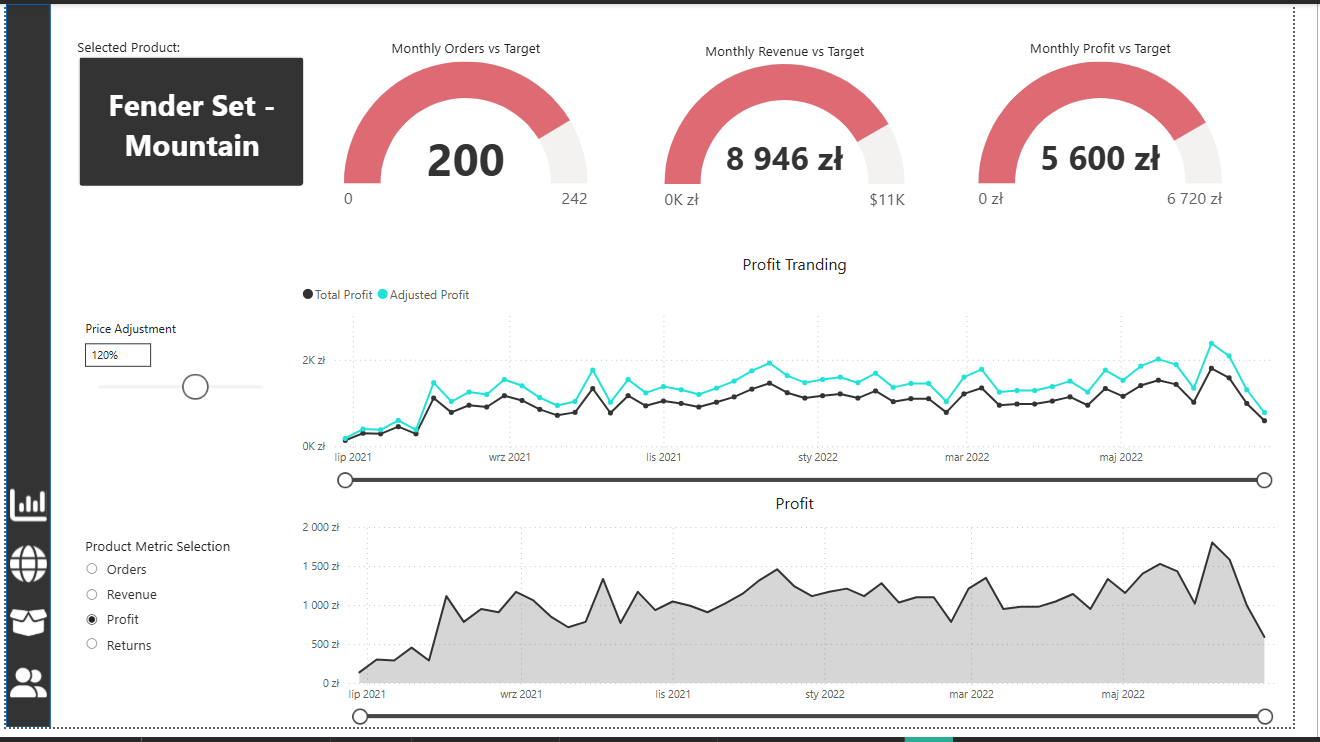

This screenshot's page, from the dashboard's own definition file:
{"tool":"powerbi","page":{"name":"Product Detail","canvas":[1280,720],"ordinal":2},"visuals":[{"type":"shape","box":[0,0,44.4,720],"z":0},{"type":"gauge","title":"Monthly Orders vs Target","fields":{"MaxValue":["Measure Table DAX.Order Target"],"Y":["Measure Table DAX.Ilość Zamówień"]},"box":[327.4,35.4,261.2,180.5],"z":1000},{"type":"gauge","title":"Monthly Revenue vs Target","fields":{"MaxValue":["Measure Table DAX.Target Revenue"],"Y":["Measure Table DAX.Total Revenue"]},"box":[643.8,37.2,261.2,178.6],"z":2000},{"type":"gauge","title":"Monthly Profit vs Target","fields":{"MaxValue":["Measure Table DAX.Profit Target"],"Y":["Measure Table DAX.Total Profit"]},"box":[959.4,35.4,260.3,180.5],"z":3000},{"type":"lineChart","title":"Profit Tranding","fields":{"Category":["Calendar Lookup.Date Hierarchy.Początek roku","Calendar Lookup.Date Hierarchy.Początek miesiąca","Calendar Lookup.Date Hierarchy.Początek tygodnia","Calendar Lookup.Date Hierarchy.Date"],"Y":["Measure Table DAX.Total Profit","Measure Table DAX.Adjusted Profit"]},"box":[290.3,247.9,989.7,236.9],"z":4000},{"type":"areaChart","fields":{"Category":["Calendar Lookup.Date Hierarchy.Początek roku","Calendar Lookup.Date Hierarchy.Początek miesiąca","Calendar Lookup.Date Hierarchy.Początek tygodnia","Calendar Lookup.Date Hierarchy.Date"],"Y":["Measure Table DAX.Ilość Zamówień"]},"box":[290.3,484.8,989.7,234.8],"z":5000},{"type":"cardVisual","fields":{"Data":["Min(Product Lookup.ProductName)"]},"box":[54.4,35.3,259,164.3],"z":6000},{"type":"textbox","box":[66,28,117,27.2],"z":7000},{"type":"actionButton","box":[0,473.7,44.7,49.4],"z":8000},{"type":"actionButton","box":[0,650,44.7,49.4],"z":9000},{"type":"actionButton","box":[0,591.2,44.7,49.4],"z":10000},{"type":"actionButton","box":[0,532.5,44.7,49.4],"z":11000},{"type":"slicer","fields":{"Values":["Price Adjustment (%).Price Adjustment (%)"]},"box":[65.5,309.4,211.7,99.8],"z":12000},{"type":"slicer","fields":{"Values":["Product Metric Selection.Product Metric Selection"]},"box":[65.5,525.1,211.7,133],"z":12006}]}

Visuals, with their boxes on the page's 1280x720 design canvas (x1, y1, x2, y2). These are canvas units, not pixel positions in the 1320x742 screenshot, which may show the page scaled, cropped or inside an application window:
shape: bbox=[0, 0, 44, 720]
"Monthly Orders vs Target" gauge: bbox=[327, 35, 589, 216]
"Monthly Revenue vs Target" gauge: bbox=[644, 37, 905, 216]
"Monthly Profit vs Target" gauge: bbox=[959, 35, 1220, 216]
"Profit Tranding" lineChart: bbox=[290, 248, 1280, 485]
areaChart - Calendar Lookup.Date Hierarchy.Początek roku x Calendar Lookup.Date Hierarchy.Początek miesiąca: bbox=[290, 485, 1280, 720]
cardVisual - Min(Product Lookup.ProductName): bbox=[54, 35, 313, 200]
textbox: bbox=[66, 28, 183, 55]
actionButton: bbox=[0, 474, 45, 523]
actionButton: bbox=[0, 650, 45, 699]
actionButton: bbox=[0, 591, 45, 641]
actionButton: bbox=[0, 532, 45, 582]
slicer - Price Adjustment (%).Price Adjustment (%): bbox=[66, 309, 277, 409]
slicer - Product Metric Selection.Product Metric Selection: bbox=[66, 525, 277, 658]
